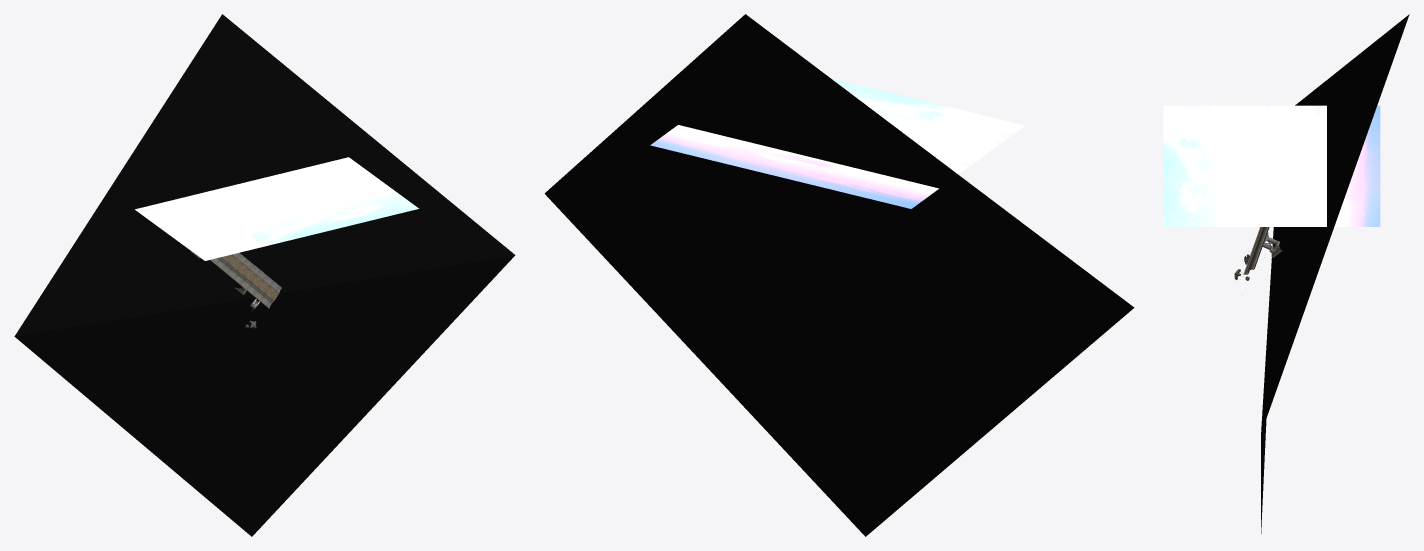
File: Spring_games.glb
The picture shows the model from 3 angles, left to right: view 1: azimuth 30°, elevation 25°; view 2: azimuth 150°, elevation 25°; view 3: azimuth 270°, elevation 25°; orthographic projection. The views are drawn at different scales.
Parts seen in each view (by area): view 1: Ground, Background, Bridge_0; view 2: Ground, Background; view 3: Background, Ground, Bridge_0.
Boxes of the visible parts, box(x1,y1,x2,y2) form: Ground: box(14, 14, 515, 536); Background: box(135, 157, 418, 260); Bridge_0: box(190, 251, 281, 308); Ground: box(544, 14, 1134, 536); Background: box(650, 78, 1024, 208); Background: box(1163, 105, 1380, 226); Ground: box(1261, 14, 1409, 533); Bridge_0: box(1243, 227, 1282, 274).
Bounding box in the file's own units: 282 × 256 × 105.
Materials: 13 (10 with a texture image).
